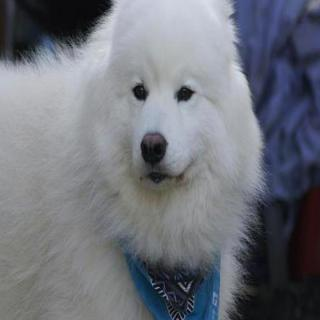dog: (101, 0, 247, 199)
nose: (140, 132, 167, 165)
